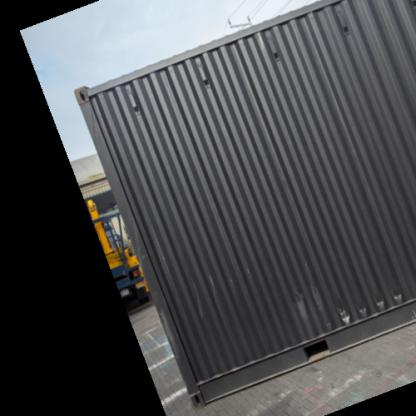Damage: (337, 286, 404, 322)
